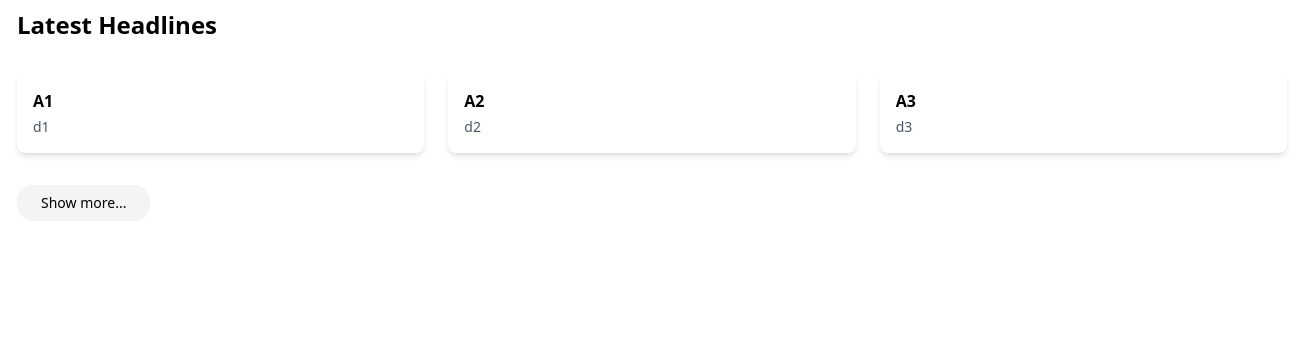
Scenario: latestSection › expands to show all items when clicking 'Show more...' and collapses back with 'Show less'
Expected: the link "A1 d1" is shown, [17, 73, 424, 153]
What coordinates should you click on to do the following:
click the button "Show more..."
I would click on:
 (84, 203)
Its box is [17, 185, 150, 221].
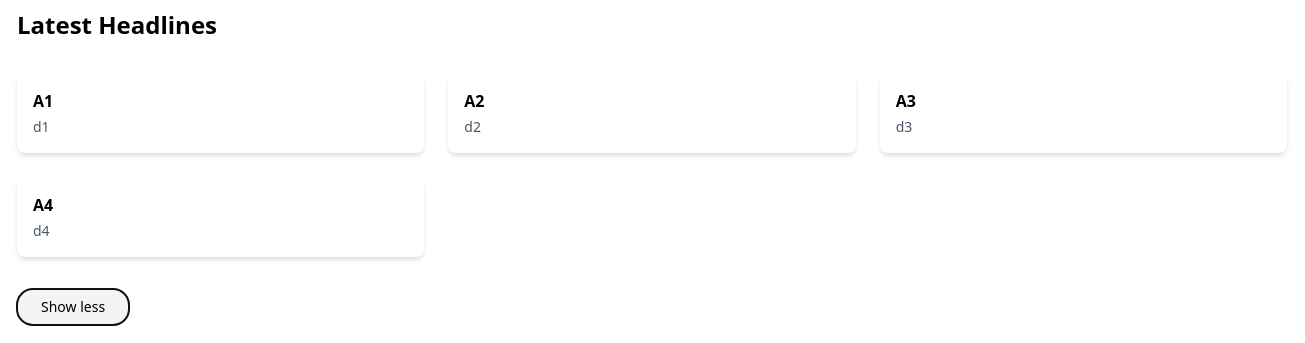
Now the link "A4 d4" is shown, box [17, 177, 424, 257]
Now the button "Show less" is shown
What coordinates should you click on to do the following:
click the button "Show less"
I would click on:
 (73, 307)
Its box is [17, 289, 129, 325].
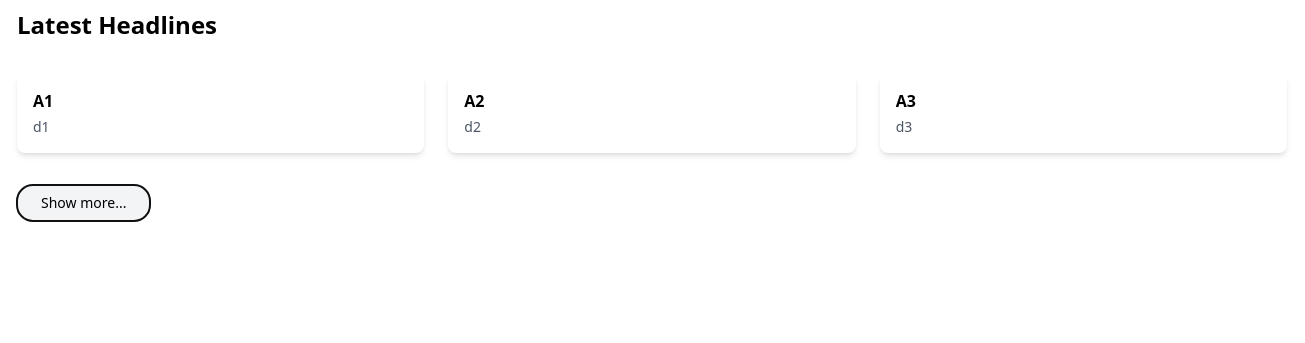
Now the link "A4" is gone
Now the button "Show more..." is shown, box [17, 185, 150, 221]
